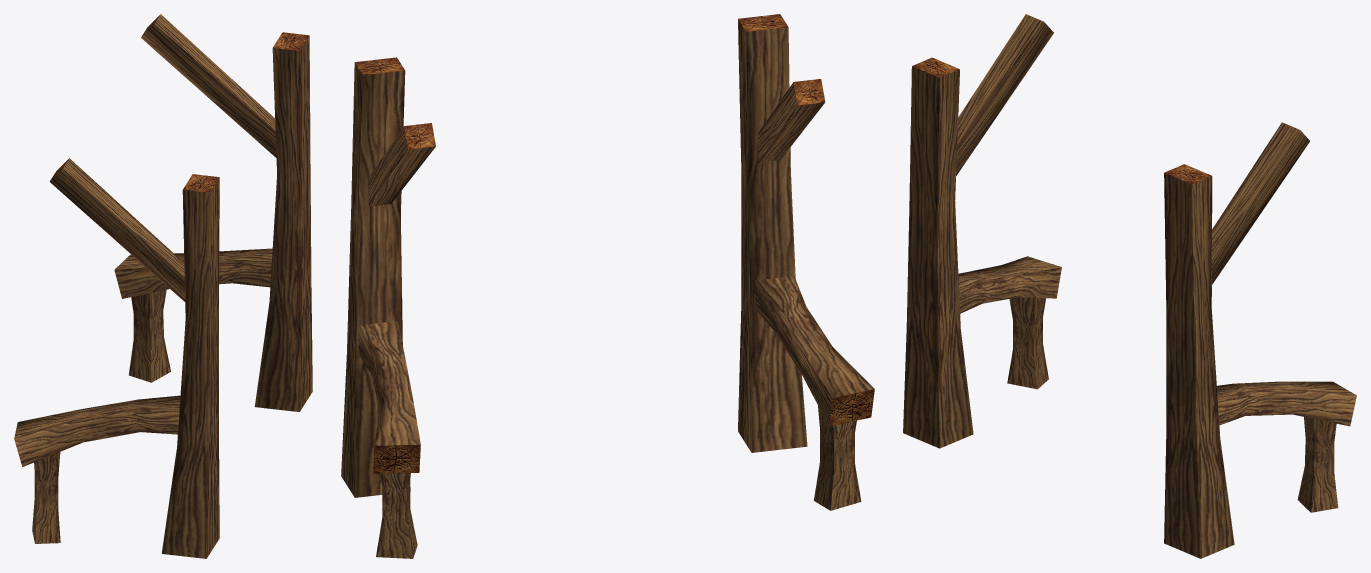
The model's file is LAKETOWN_EXTERIOR_PS_LT_TOWNHALL_BEAMS__GX.fbx.
The picture shows the model from 3 angles, left to right: view 1: azimuth 30°, elevation 25°; view 2: azimuth 150°, elevation 25°; view 3: azimuth 270°, elevation 25°; orthographic projection. The views are drawn at different scales.
Parts seen in each view (by area): view 1: LAKETOWN_EXTERIOR_PS_LT_TOWNHALL_BEAMS__GX; view 2: LAKETOWN_EXTERIOR_PS_LT_TOWNHALL_BEAMS__GX; view 3: LAKETOWN_EXTERIOR_PS_LT_TOWNHALL_BEAMS__GX.
Boxes of the visible parts, x1,y1,x2,y2 form: LAKETOWN_EXTERIOR_PS_LT_TOWNHALL_BEAMS__GX: [14, 14, 312, 558]; LAKETOWN_EXTERIOR_PS_LT_TOWNHALL_BEAMS__GX: [341, 14, 874, 558]; LAKETOWN_EXTERIOR_PS_LT_TOWNHALL_BEAMS__GX: [903, 14, 1356, 558].
Bounding box in the file's own units: 35250 × 32307 × 35250.
3 materials, 3 textured.
